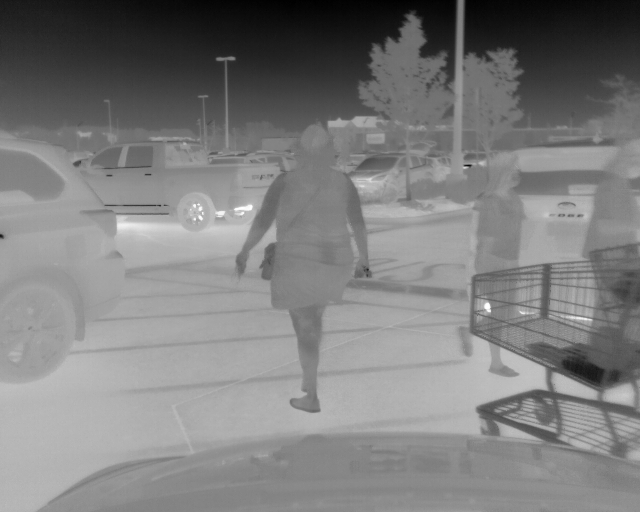car: (456, 139, 640, 322), (1, 136, 128, 381), (74, 140, 283, 232), (343, 149, 443, 202), (458, 151, 487, 170)
people: (236, 126, 372, 413), (452, 149, 526, 376), (584, 139, 640, 347)
